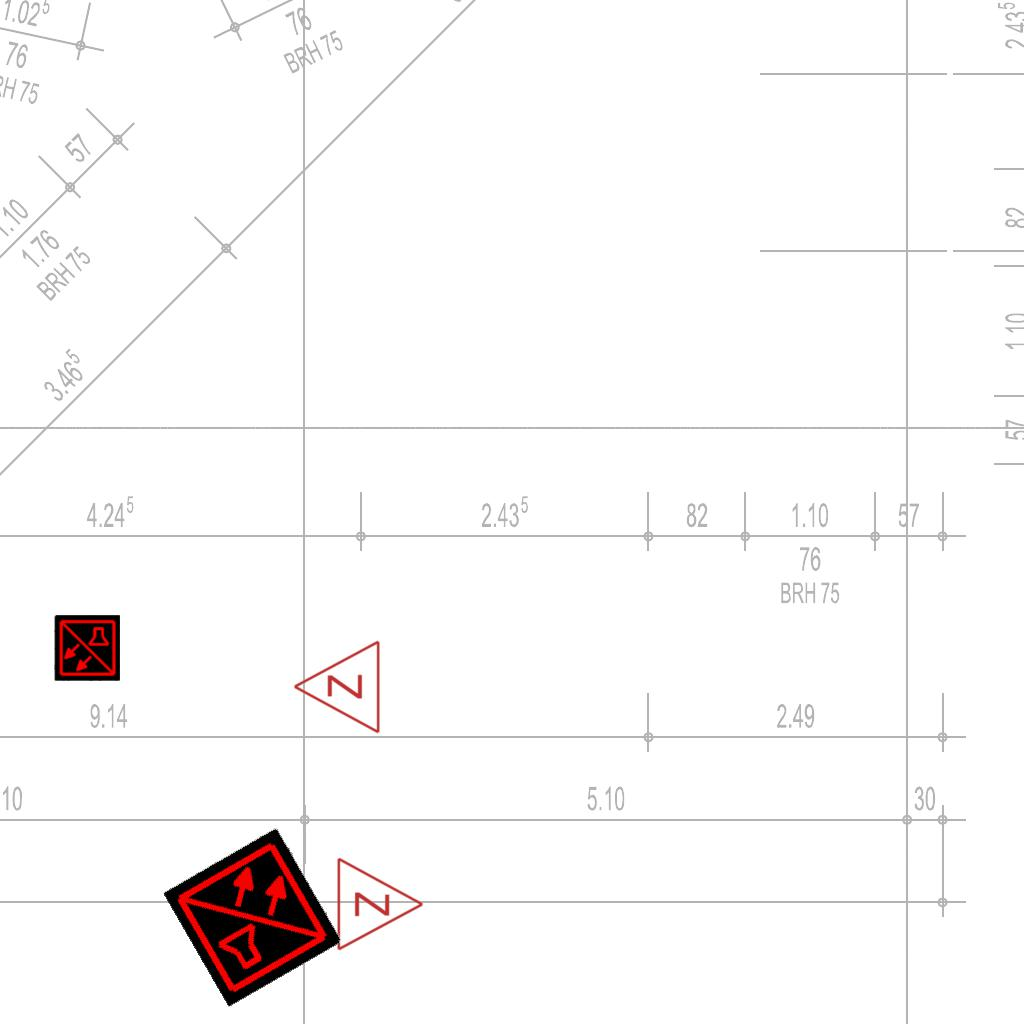OKW_Multisensormelder_(Kombination_optischer_Rauch-Kahlenmonoxid_Waerme-Melder): (162, 826, 344, 1008), (54, 615, 120, 681)
Zimmersignalleuchte: (330, 854, 430, 952), (287, 639, 387, 737)
